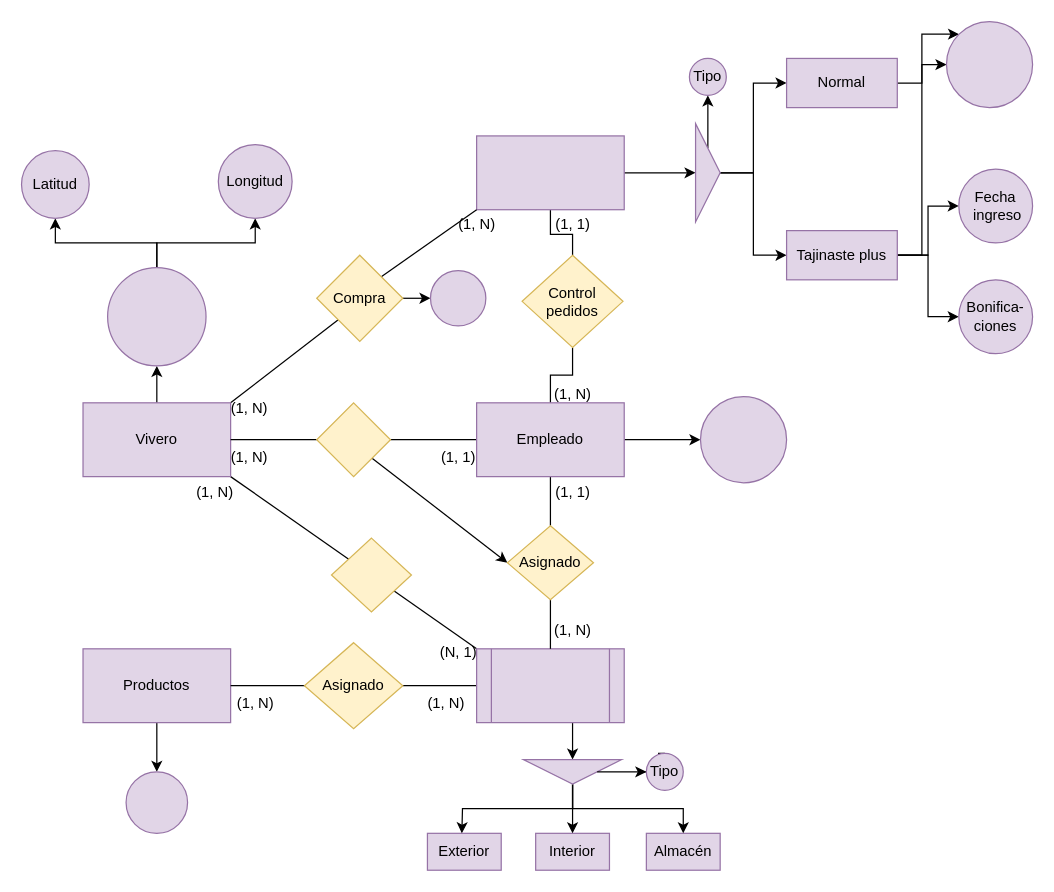
This 1054x892 diagram has some shape labels left out. Each missing label, with the centre of its shape:
"Cliente" goes at point (549, 172).
"Datos Personales" goes at point (989, 64).
"Fecha" goes at point (457, 297).
"Georreferen- ciación" goes at point (156, 316).
"Historico" goes at point (743, 439).
"Stock" goes at point (156, 802).
"Tiene" goes at point (370, 574).
"Trabaja" goes at point (353, 439).
"Zona" goes at point (549, 685).
